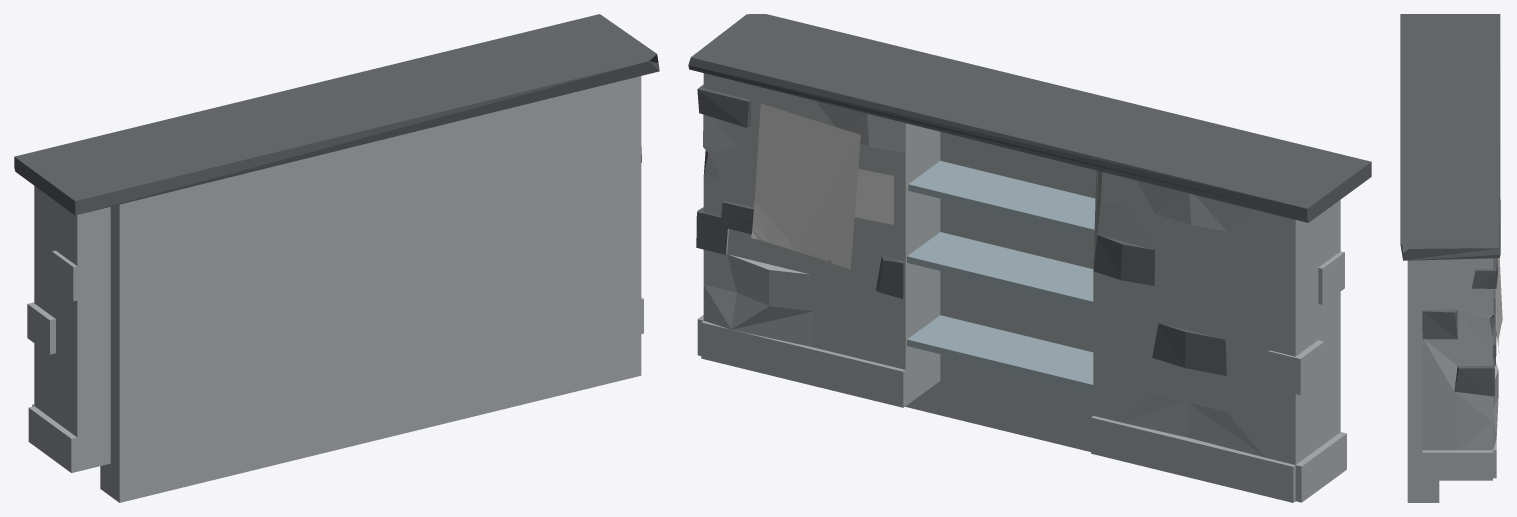
File: shelf.glb
3 views of the same model, side by side, from view 1: azimuth 30°, elevation 25°; view 2: azimuth 150°, elevation 25°; view 3: azimuth 270°, elevation 25° (orthographic). The views are drawn at different scales.
Visible parts, largest first — view 1: shelf-col; view 2: shelf-col; view 3: shelf-col.
Part boxes in pixels (box(x1,y1,x2,y2)): shelf-col: box(14, 14, 659, 502); shelf-col: box(688, 14, 1371, 502); shelf-col: box(1400, 14, 1502, 502).
Size of the model in its own units: 3 by 1.55 by 0.5522.
